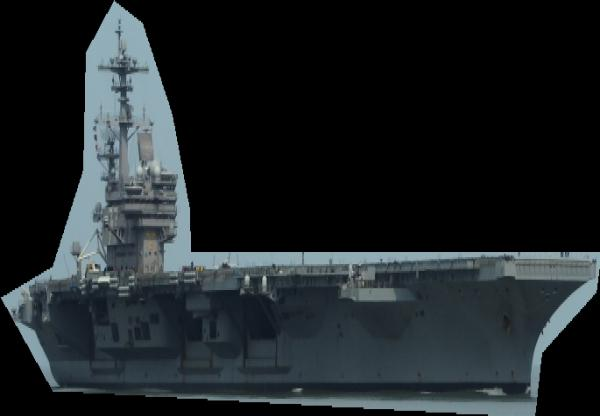Aircraft Carrier: (1, 0, 600, 416)
